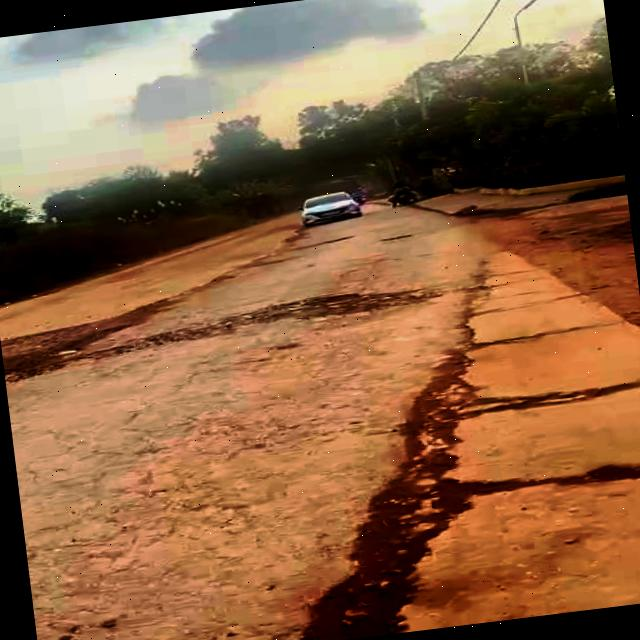pothole: (248, 549, 502, 640), (349, 425, 493, 561)
